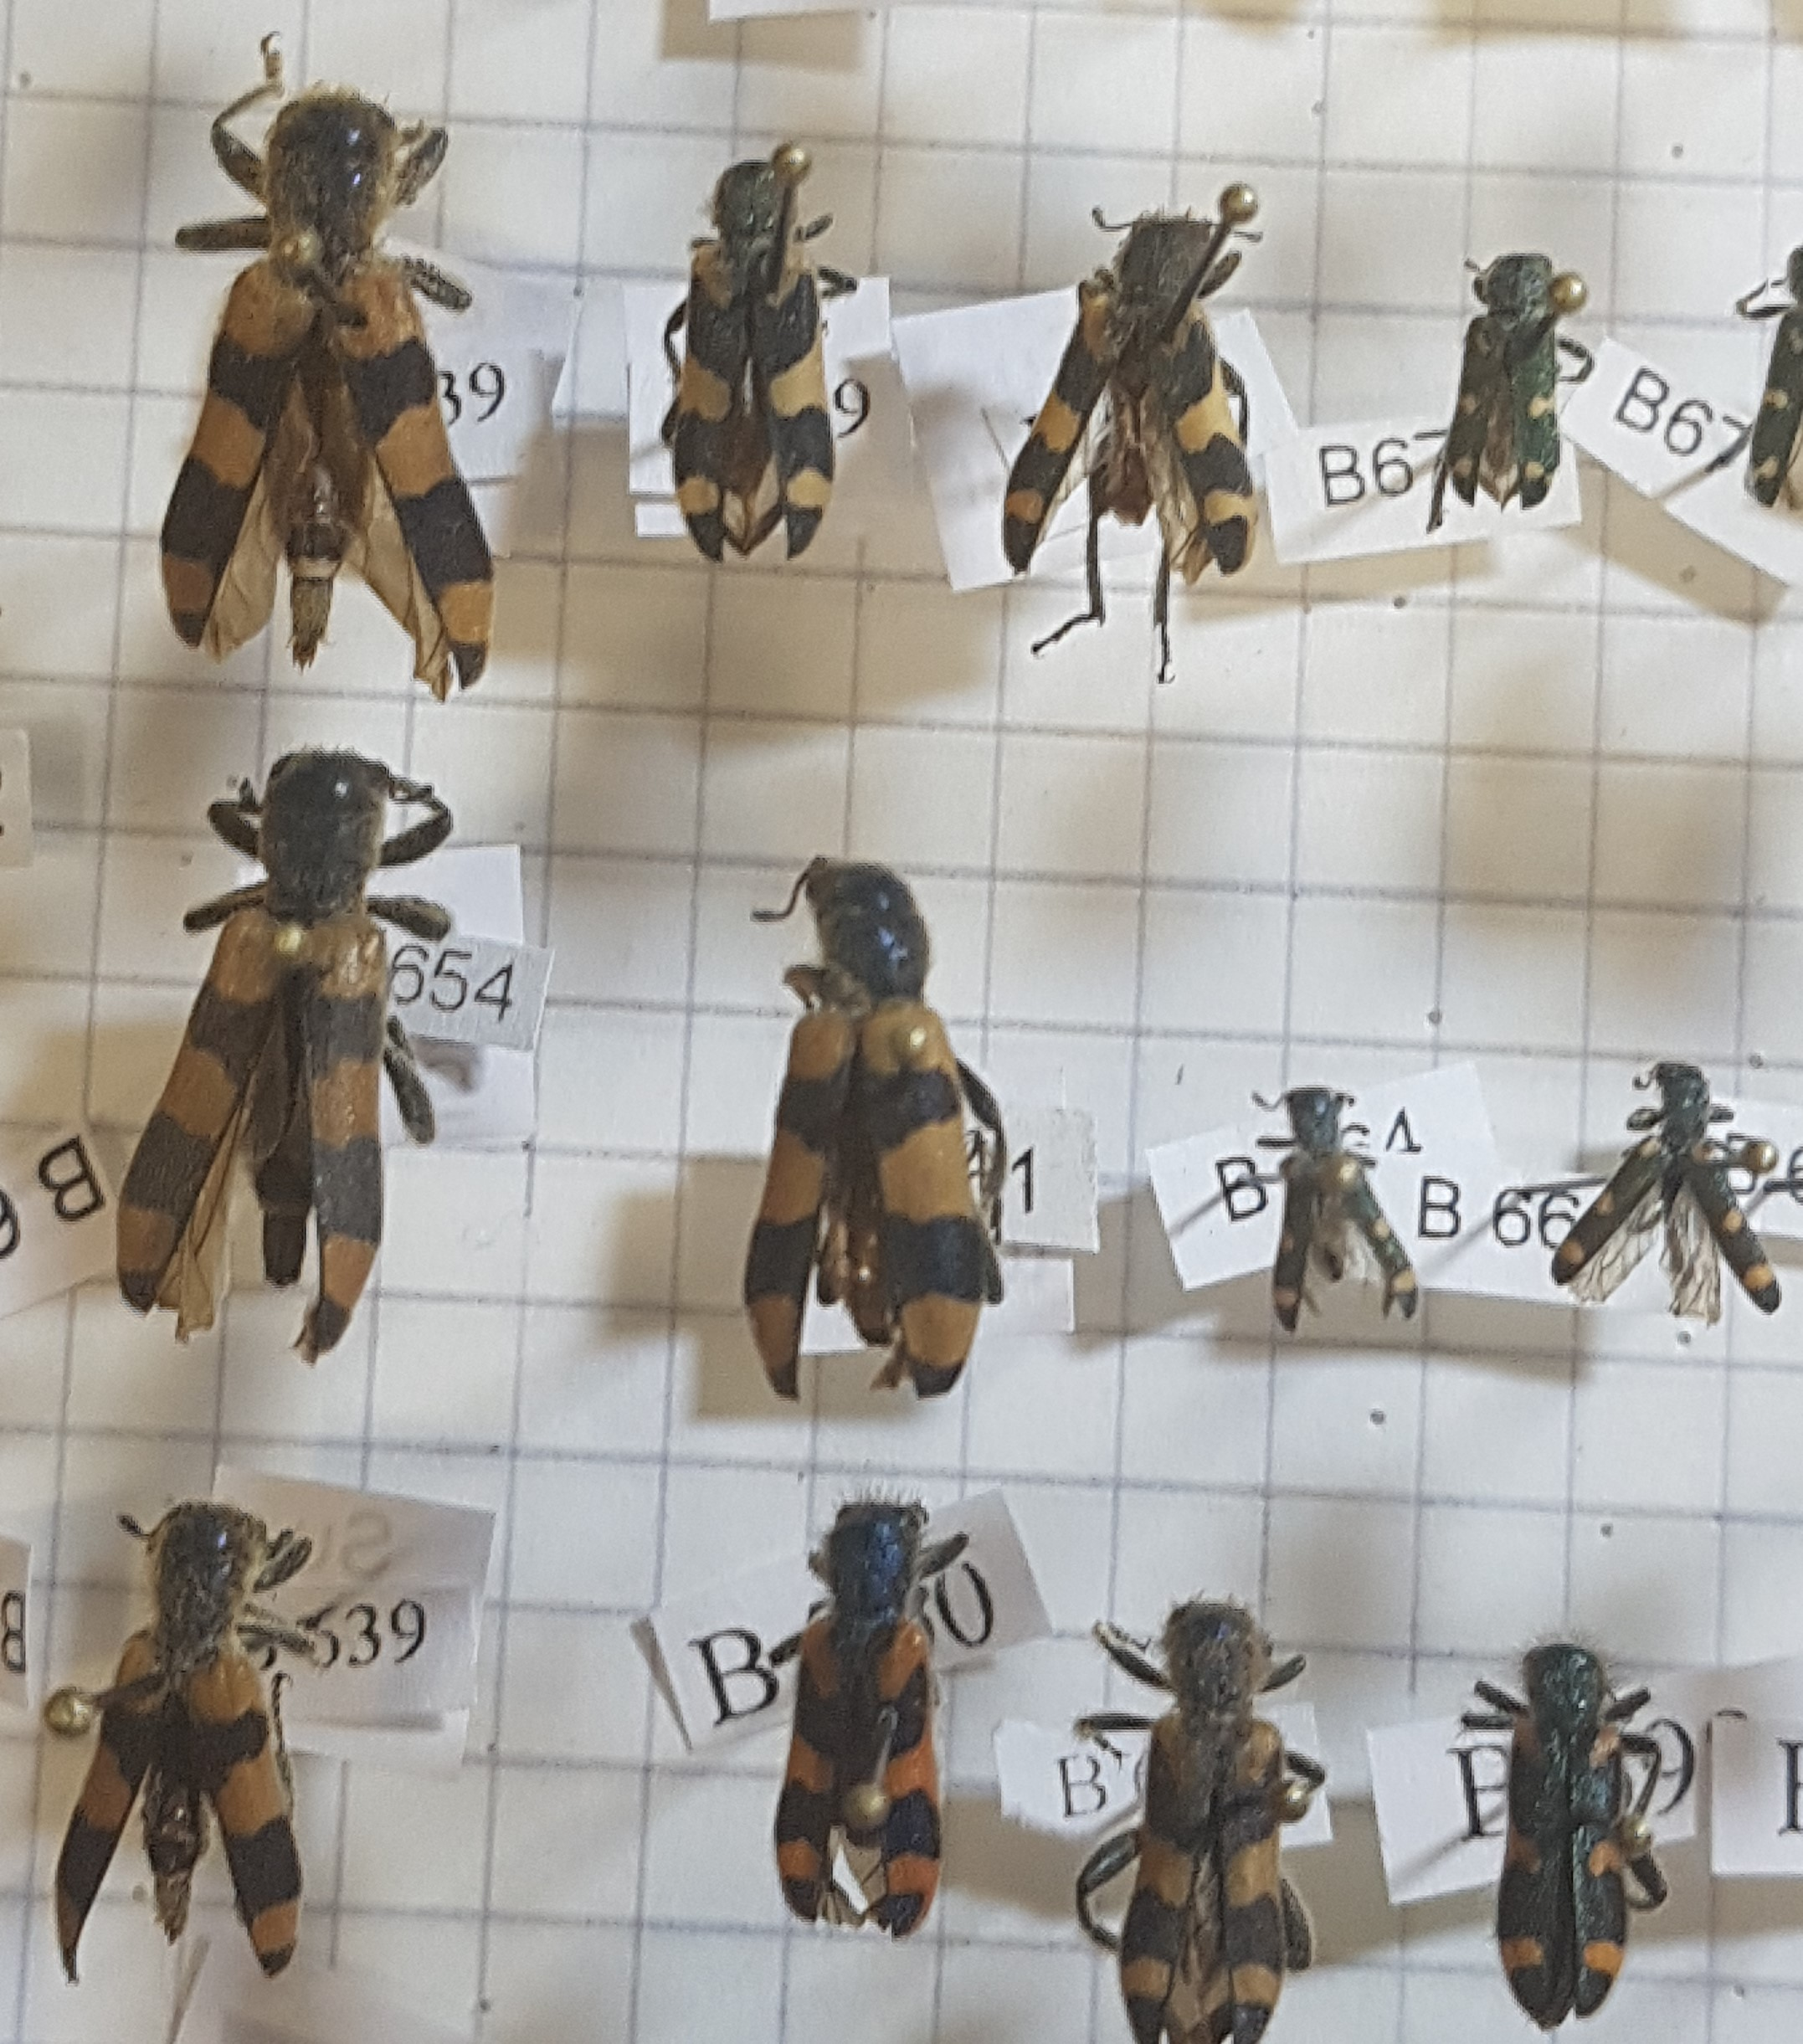trichodes_crabroniformis: (139, 30, 512, 717), (108, 743, 470, 1378), (741, 832, 1049, 1430), (42, 1484, 364, 2001), (975, 174, 1253, 692), (1065, 1555, 1335, 2044), (750, 1475, 1008, 1943), (644, 120, 858, 590)
